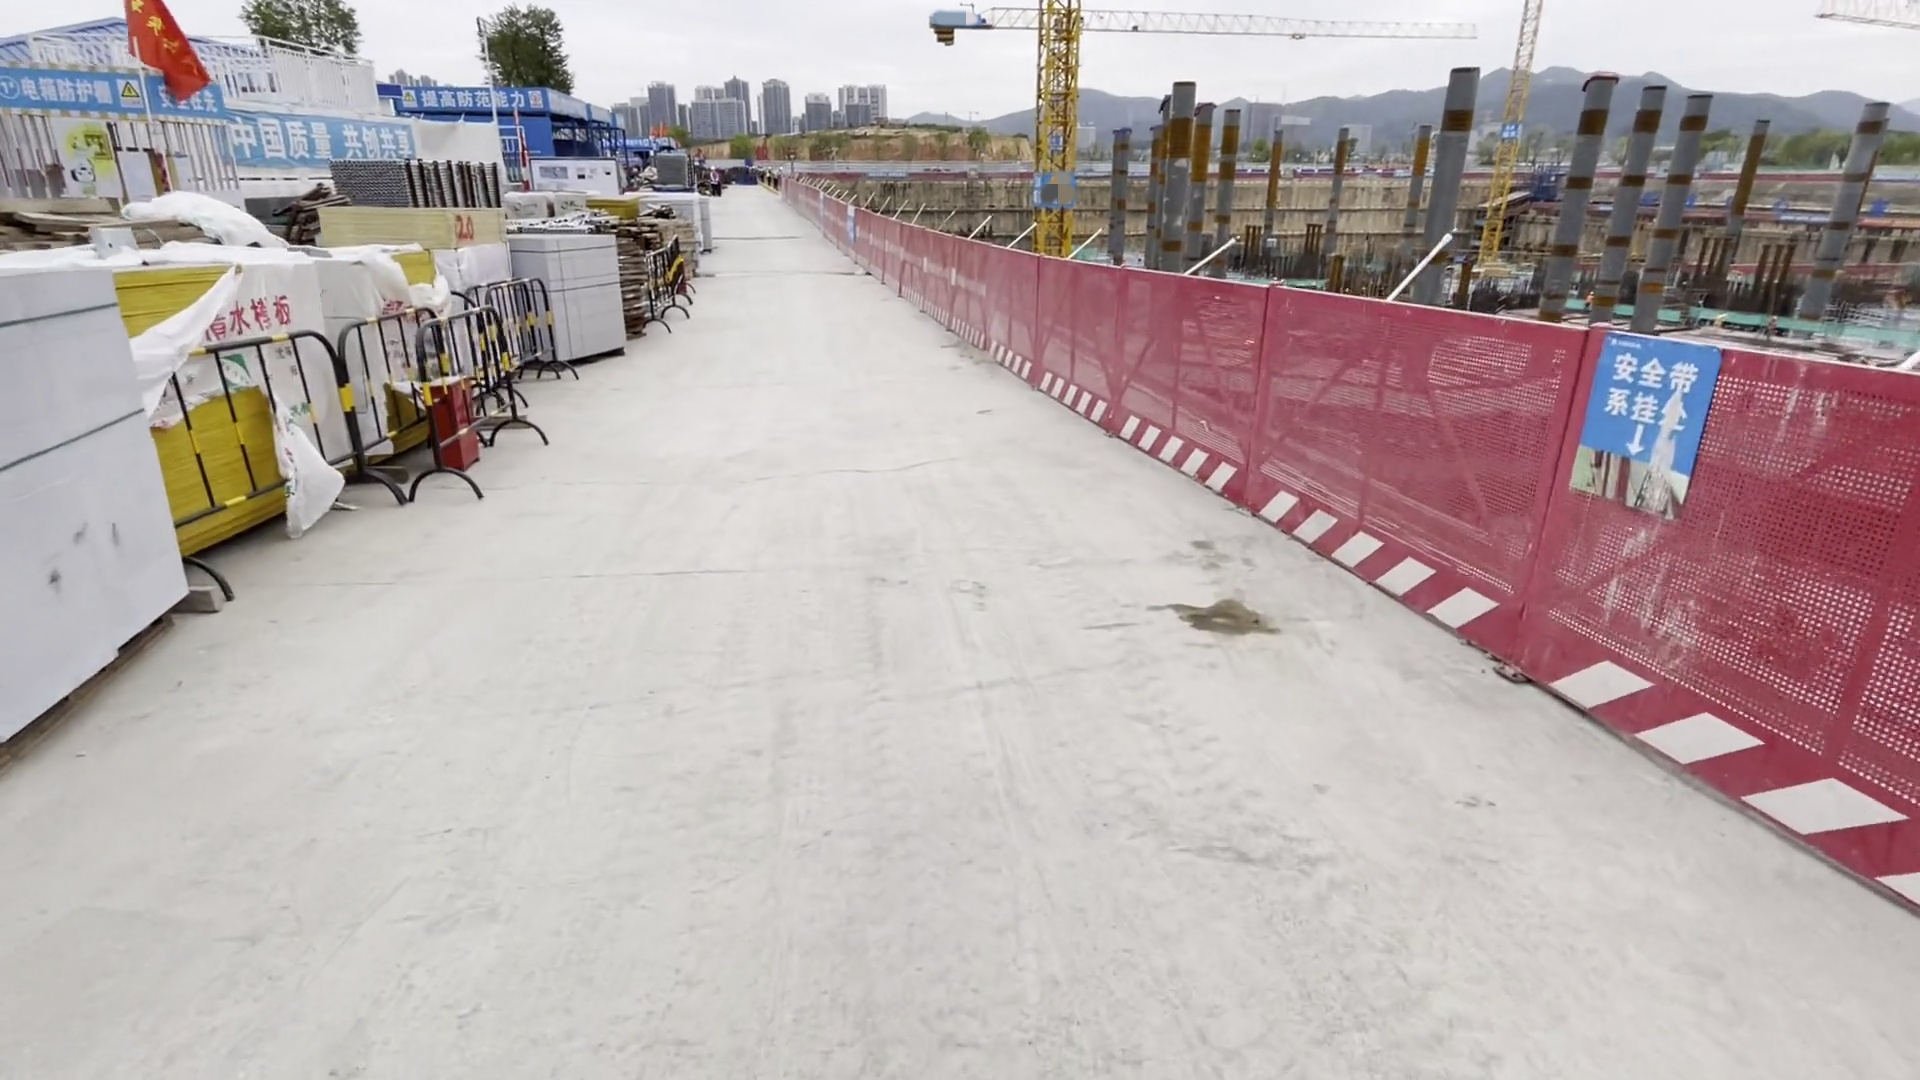board: (105, 278, 351, 533)
brick: (1, 239, 208, 764), (497, 231, 638, 378)
fence: (1220, 280, 1920, 891), (778, 164, 1218, 487)
slogan: (1572, 347, 1681, 495), (1, 65, 260, 123), (212, 107, 410, 169), (402, 83, 541, 121)
